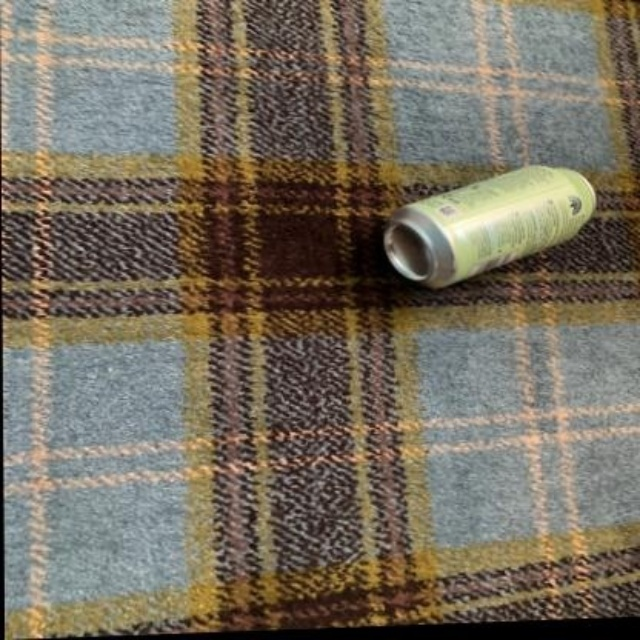trash: (383, 166, 594, 288)
